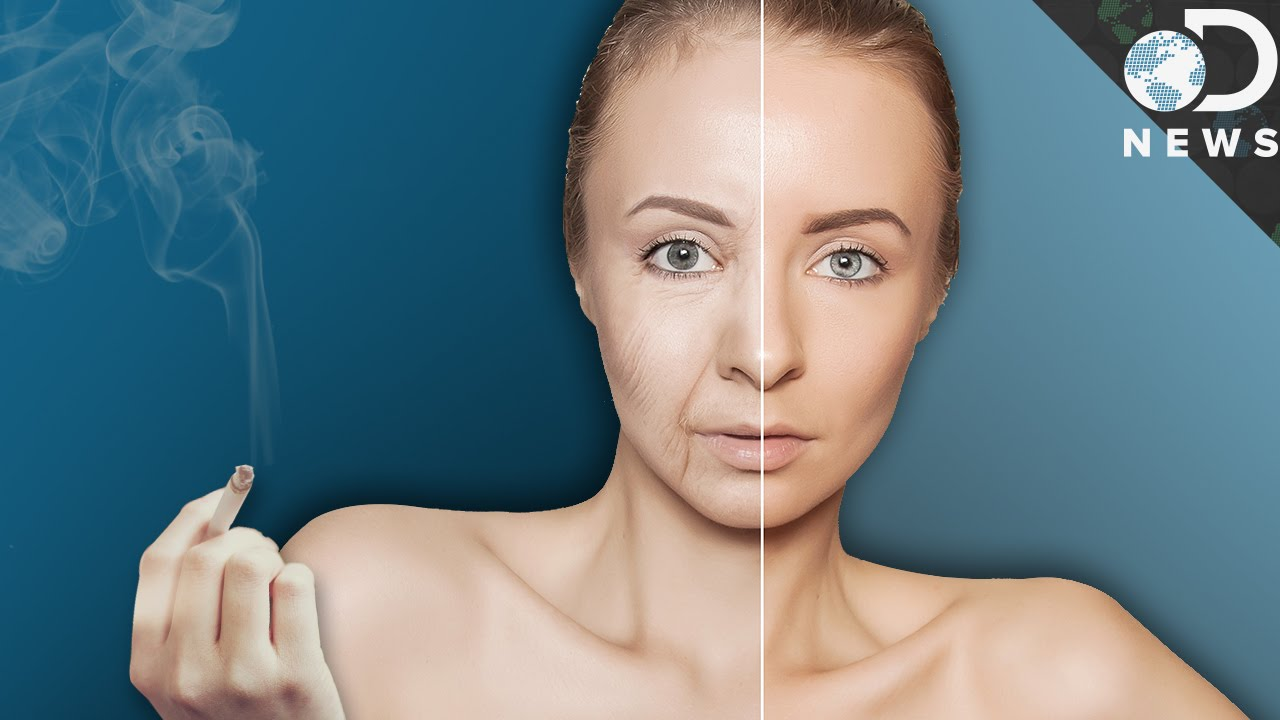cigarette: (201, 449, 261, 550)
